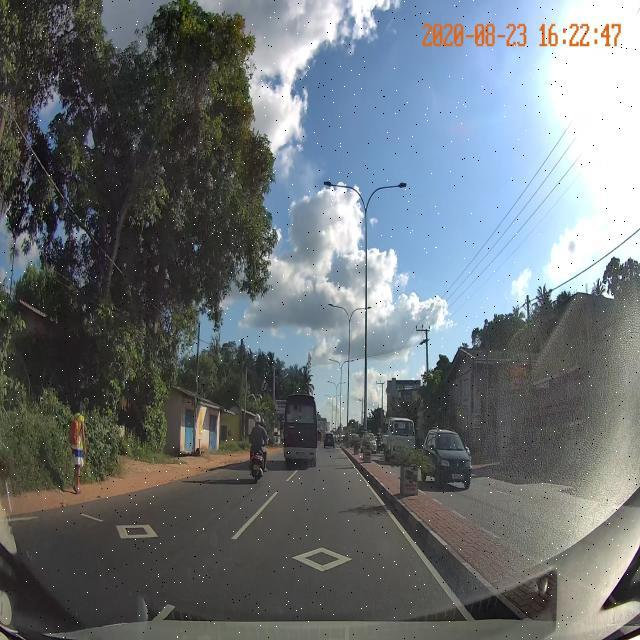diamond: (202, 547, 444, 578)
